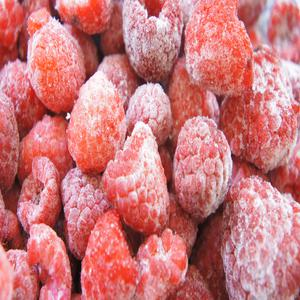raspb: (14, 10, 275, 289)
